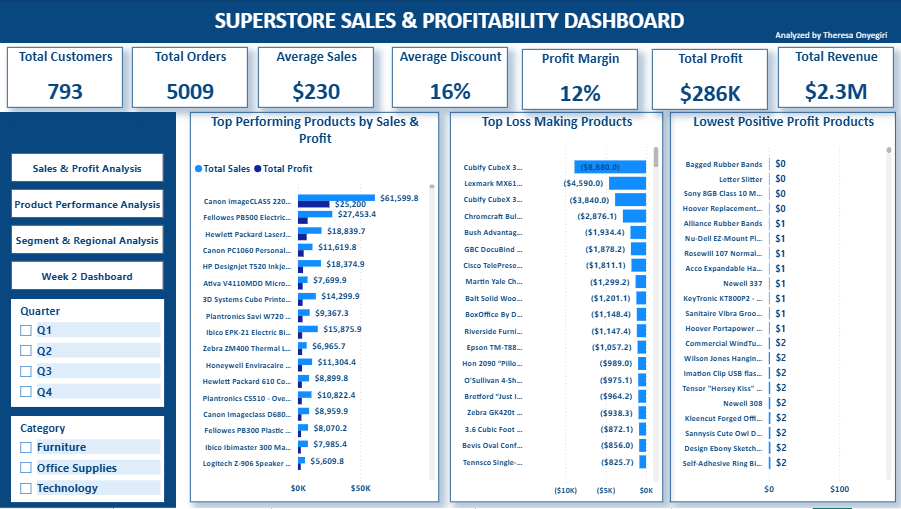

The page's visual inventory and layout, read from the dashboard file:
{"tool":"powerbi","page":{"name":"Product Performance Analysis","canvas":[1280,720],"ordinal":1},"visuals":[{"type":"shape","box":[0,0,1280,61],"z":0},{"type":"textbox","box":[207.4,4.3,863.3,49.6],"z":1000},{"type":"shape","box":[0,158.7,250.9,561.3],"z":2000},{"type":"clusteredBarChart","title":"Lowest Positive Profit Products","fields":{"Y":["Sample - Superstore.Total Profit"],"Category":["Sample - Superstore.Product Name"]},"box":[951,158.7,320.3,552.8],"z":3000},{"type":"clusteredBarChart","title":"Top Performing Products by Sales & Profit","fields":{"Category":["Sample - Superstore.Product Name"],"Y":["Sample - Superstore.Total Sales","Sample - Superstore.Total Profit"]},"box":[270.7,158.7,352.9,552.8],"z":4000},{"type":"clusteredBarChart","title":"Top Loss Making Products","fields":{"Category":["Sample - Superstore.Product Name"],"Y":["Sample - Superstore.Total Profit"]},"box":[639.2,158.7,301.9,552.8],"z":5000},{"type":"card","title":"Total Customers","fields":{"Values":["Sample - Superstore.Total customer"]},"box":[11.3,66.6,164.4,86.5],"z":6000},{"type":"card","title":"Average Discount","fields":{"Values":["Sample - Superstore.Average Discount"]},"box":[557,66.6,164.4,86.5],"z":7000},{"type":"card","title":"Average Sales","fields":{"Values":["Sample - Superstore.Average Sales"]},"box":[367.1,66.6,164.4,86.5],"z":8000},{"type":"card","title":"Total Orders","fields":{"Values":["Sample - Superstore.Total Orders"]},"box":[188.5,66.6,164.4,86.5],"z":9000},{"type":"card","title":"Total Revenue","fields":{"Values":["Sample - Superstore.Total Sales"]},"box":[1104.1,66.6,164.4,86.5],"z":10000},{"type":"card","title":"Total Profit","fields":{"Values":["Sample - Superstore.Total Profit"]},"box":[925.5,69.4,164.4,86.5],"z":11000},{"type":"card","title":"Profit Margin","fields":{"Values":["Sample - Superstore.Profit Margin"]},"box":[741.3,69.4,164.4,86.5],"z":12000},{"type":"pageNavigator","box":[17,216.9,216.9,197],"z":13000},{"type":"textbox","box":[1095.6,35.4,180,31.2],"z":14000},{"type":"slicer","fields":{"Values":["DateTable.Quarter"]},"box":[17,423.8,216.9,153.1],"z":14001},{"type":"slicer","fields":{"Values":["Sample - Superstore.Category"]},"box":[17,589.6,216.9,121.9],"z":14002}]}

Visuals, with their boxes in screenshot pixels (x1, y1, x2, y2), scaled from the page's 1280x720 canvas onto the 901x509 screenshot:
shape: [x1=0, y1=0, x2=900, y2=43]
textbox: [x1=146, y1=3, x2=754, y2=38]
shape: [x1=0, y1=112, x2=177, y2=508]
"Lowest Positive Profit Products" clusteredBarChart: [x1=669, y1=112, x2=895, y2=503]
"Top Performing Products by Sales & Profit" clusteredBarChart: [x1=191, y1=112, x2=439, y2=503]
"Top Loss Making Products" clusteredBarChart: [x1=450, y1=112, x2=662, y2=503]
"Total Customers" card: [x1=8, y1=47, x2=124, y2=108]
"Average Discount" card: [x1=392, y1=47, x2=508, y2=108]
"Average Sales" card: [x1=258, y1=47, x2=374, y2=108]
"Total Orders" card: [x1=133, y1=47, x2=248, y2=108]
"Total Revenue" card: [x1=777, y1=47, x2=893, y2=108]
"Total Profit" card: [x1=651, y1=49, x2=767, y2=110]
"Profit Margin" card: [x1=522, y1=49, x2=638, y2=110]
pageNavigator: [x1=12, y1=153, x2=165, y2=293]
textbox: [x1=771, y1=25, x2=898, y2=47]
slicer - DateTable.Quarter: [x1=12, y1=300, x2=165, y2=408]
slicer - Sample - Superstore.Category: [x1=12, y1=417, x2=165, y2=503]
